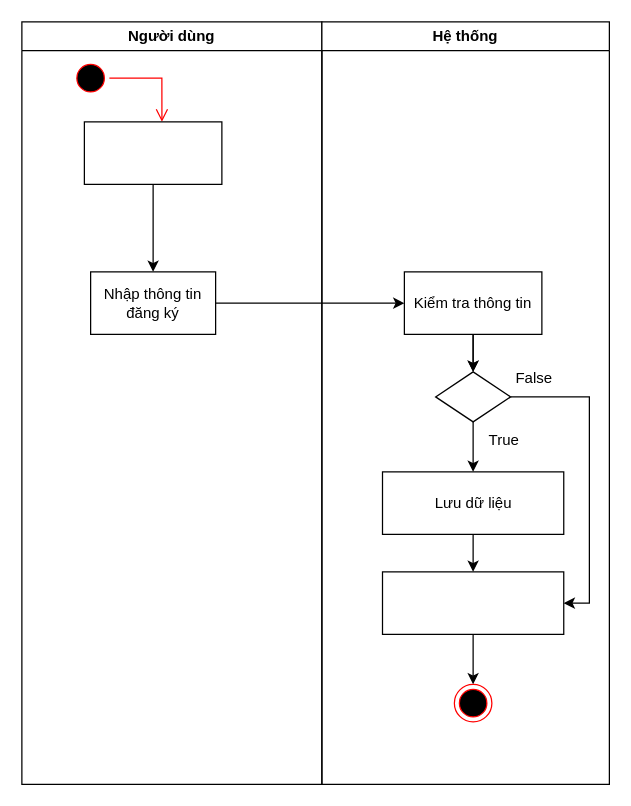
Image size: 631x806. Some labels were removed from this diagram. Each missing label, with the centre of its shape:
Thông báo kết quả: (472,602)
Truy cập vào ứng dụng: (152,152)
